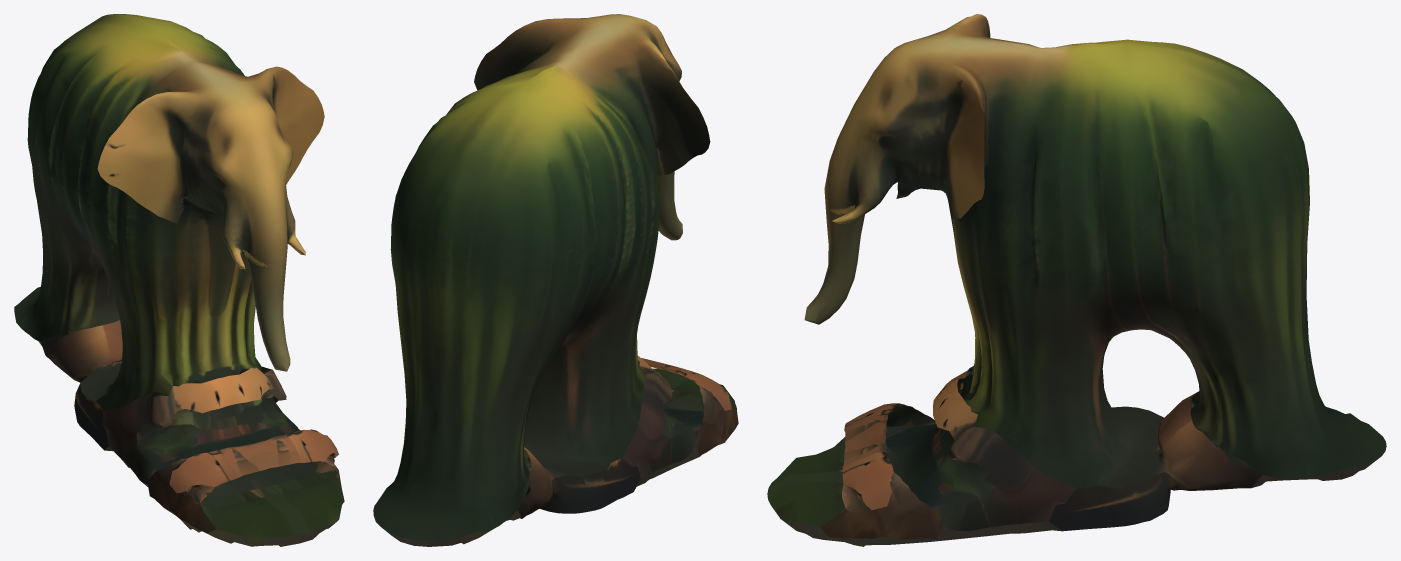
File: Elephant.fbx
The picture shows the model from 3 angles, left to right: view 1: azimuth 30°, elevation 25°; view 2: azimuth 150°, elevation 25°; view 3: azimuth 270°, elevation 25°; orthographic projection. The views are drawn at different scales.
Visible parts, largest first — view 1: Elephant; view 2: Elephant; view 3: Elephant.
Part boxes in pixels (<box>): Elephant: <box>14,14,344,546</box>; Elephant: <box>373,14,738,546</box>; Elephant: <box>767,14,1386,546</box>.
Size of the model in its own units: 153 by 263 by 314.
1 material, 1 textured.
